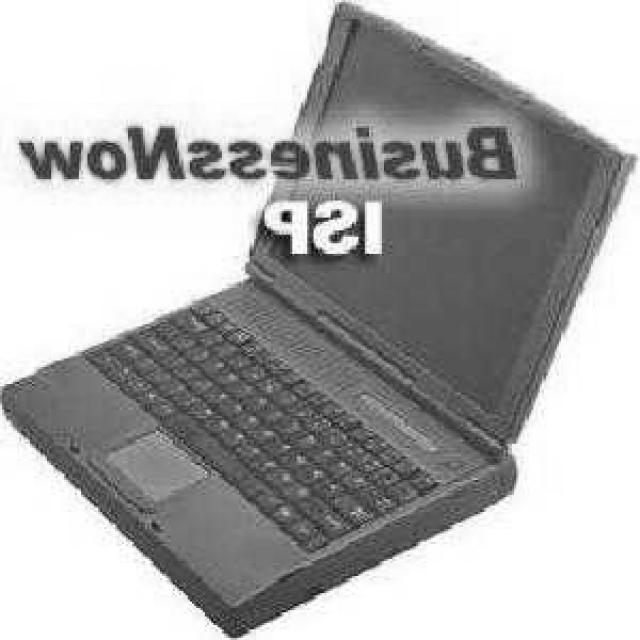laptop: (12, 9, 640, 634)
